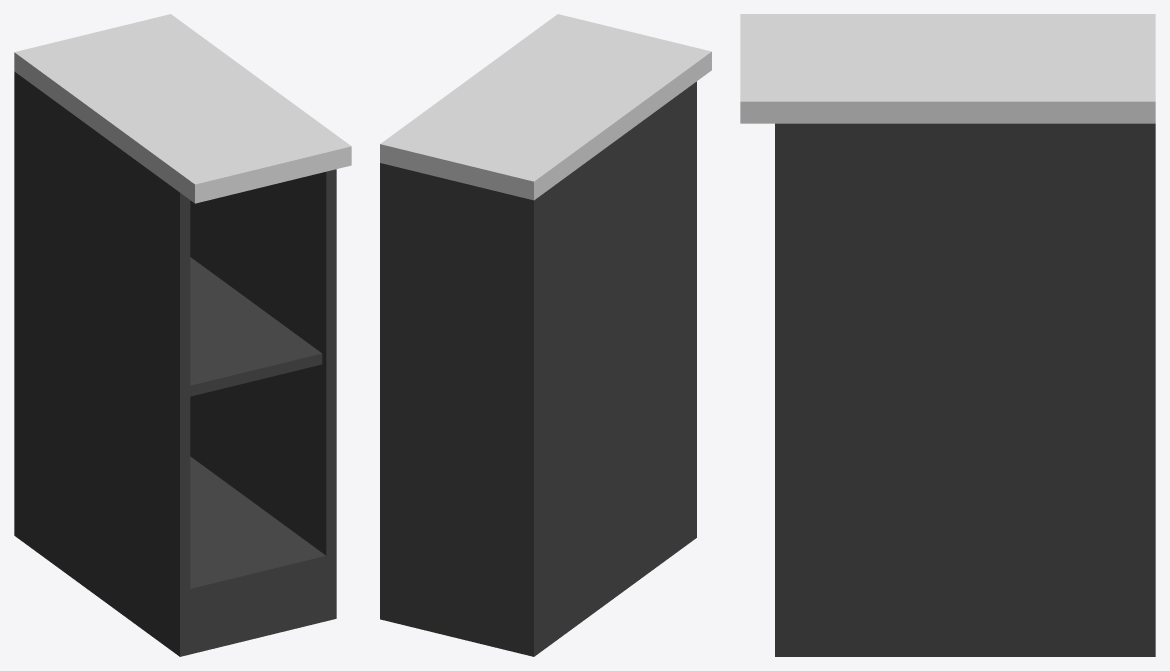
Rendered from Kitchen1_C3_04.fbx.
3 views of the same model, side by side, from view 1: azimuth 30°, elevation 25°; view 2: azimuth 150°, elevation 25°; view 3: azimuth 270°, elevation 25° (orthographic). The views are drawn at different scales.
Parts seen in each view (by area): view 1: Kitchen1_C3_04; view 2: Kitchen1_C3_04; view 3: Kitchen1_C3_04.
Part boxes in pixels (box(x1,y1,x2,y2)): Kitchen1_C3_04: box(14, 14, 351, 656); Kitchen1_C3_04: box(380, 14, 711, 656); Kitchen1_C3_04: box(740, 14, 1155, 656).
Bounding box in the file's own units: 30 × 88.5 × 60.
